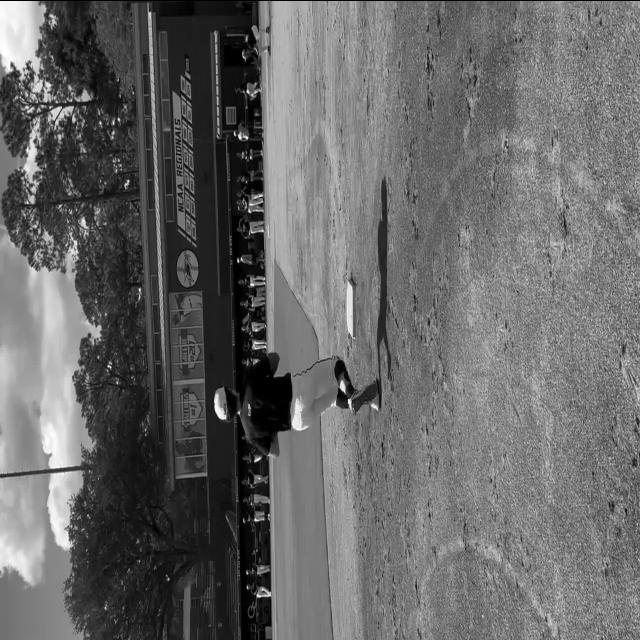base: (345, 275, 355, 341), (268, 224, 270, 238)
baseball_glove: (258, 55, 262, 67)
shoe: (349, 380, 378, 413), (369, 380, 381, 411)
